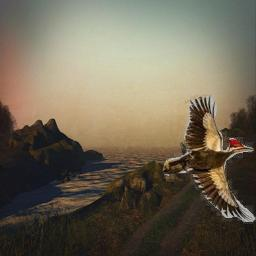Woodpecker: (161, 94, 256, 224)
